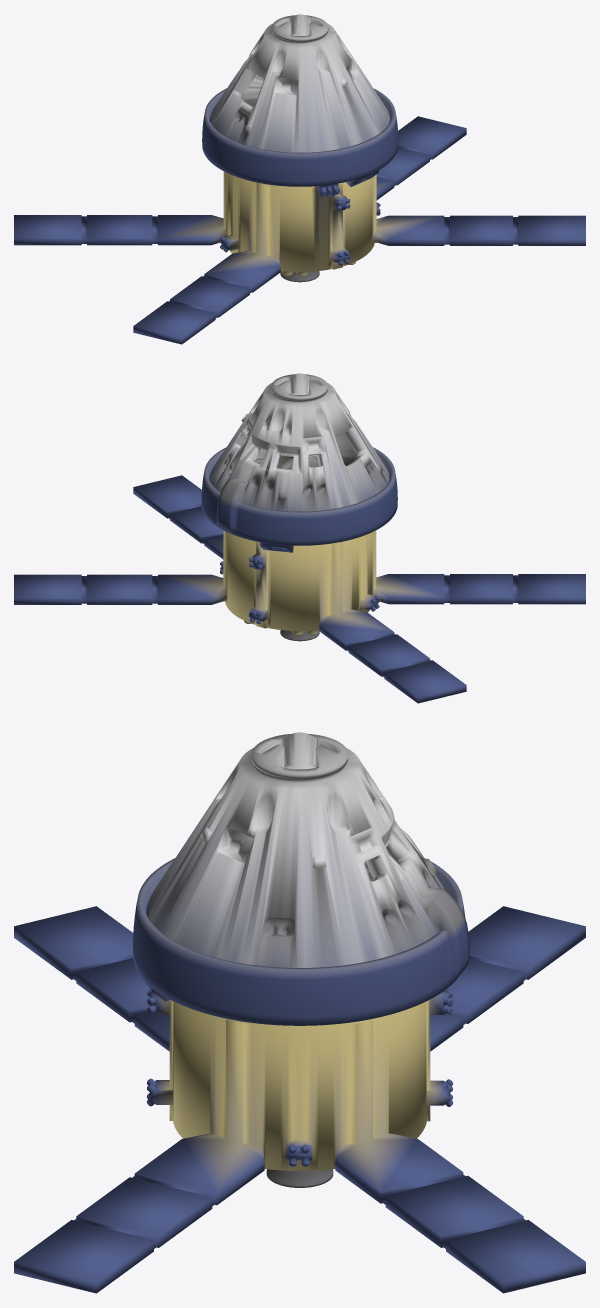
File: orion_full.glb
The picture shows the model from 3 angles, top to bottom: view 1: azimuth 30°, elevation 25°; view 2: azimuth 150°, elevation 25°; view 3: azimuth 270°, elevation 25°; orthographic projection. The views are drawn at different scales.
Visible parts, largest first — view 1: ASCII; view 2: ASCII; view 3: ASCII.
Part boxes in pixels (bbox=[...]): ASCII: bbox=[14, 14, 585, 344]; ASCII: bbox=[14, 373, 585, 703]; ASCII: bbox=[14, 732, 585, 1293].
Bounding box in the file's own units: 140 × 75.1 × 89.98.
